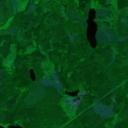alloviz: (84, 7, 98, 49), (64, 88, 80, 97), (28, 68, 37, 82)
